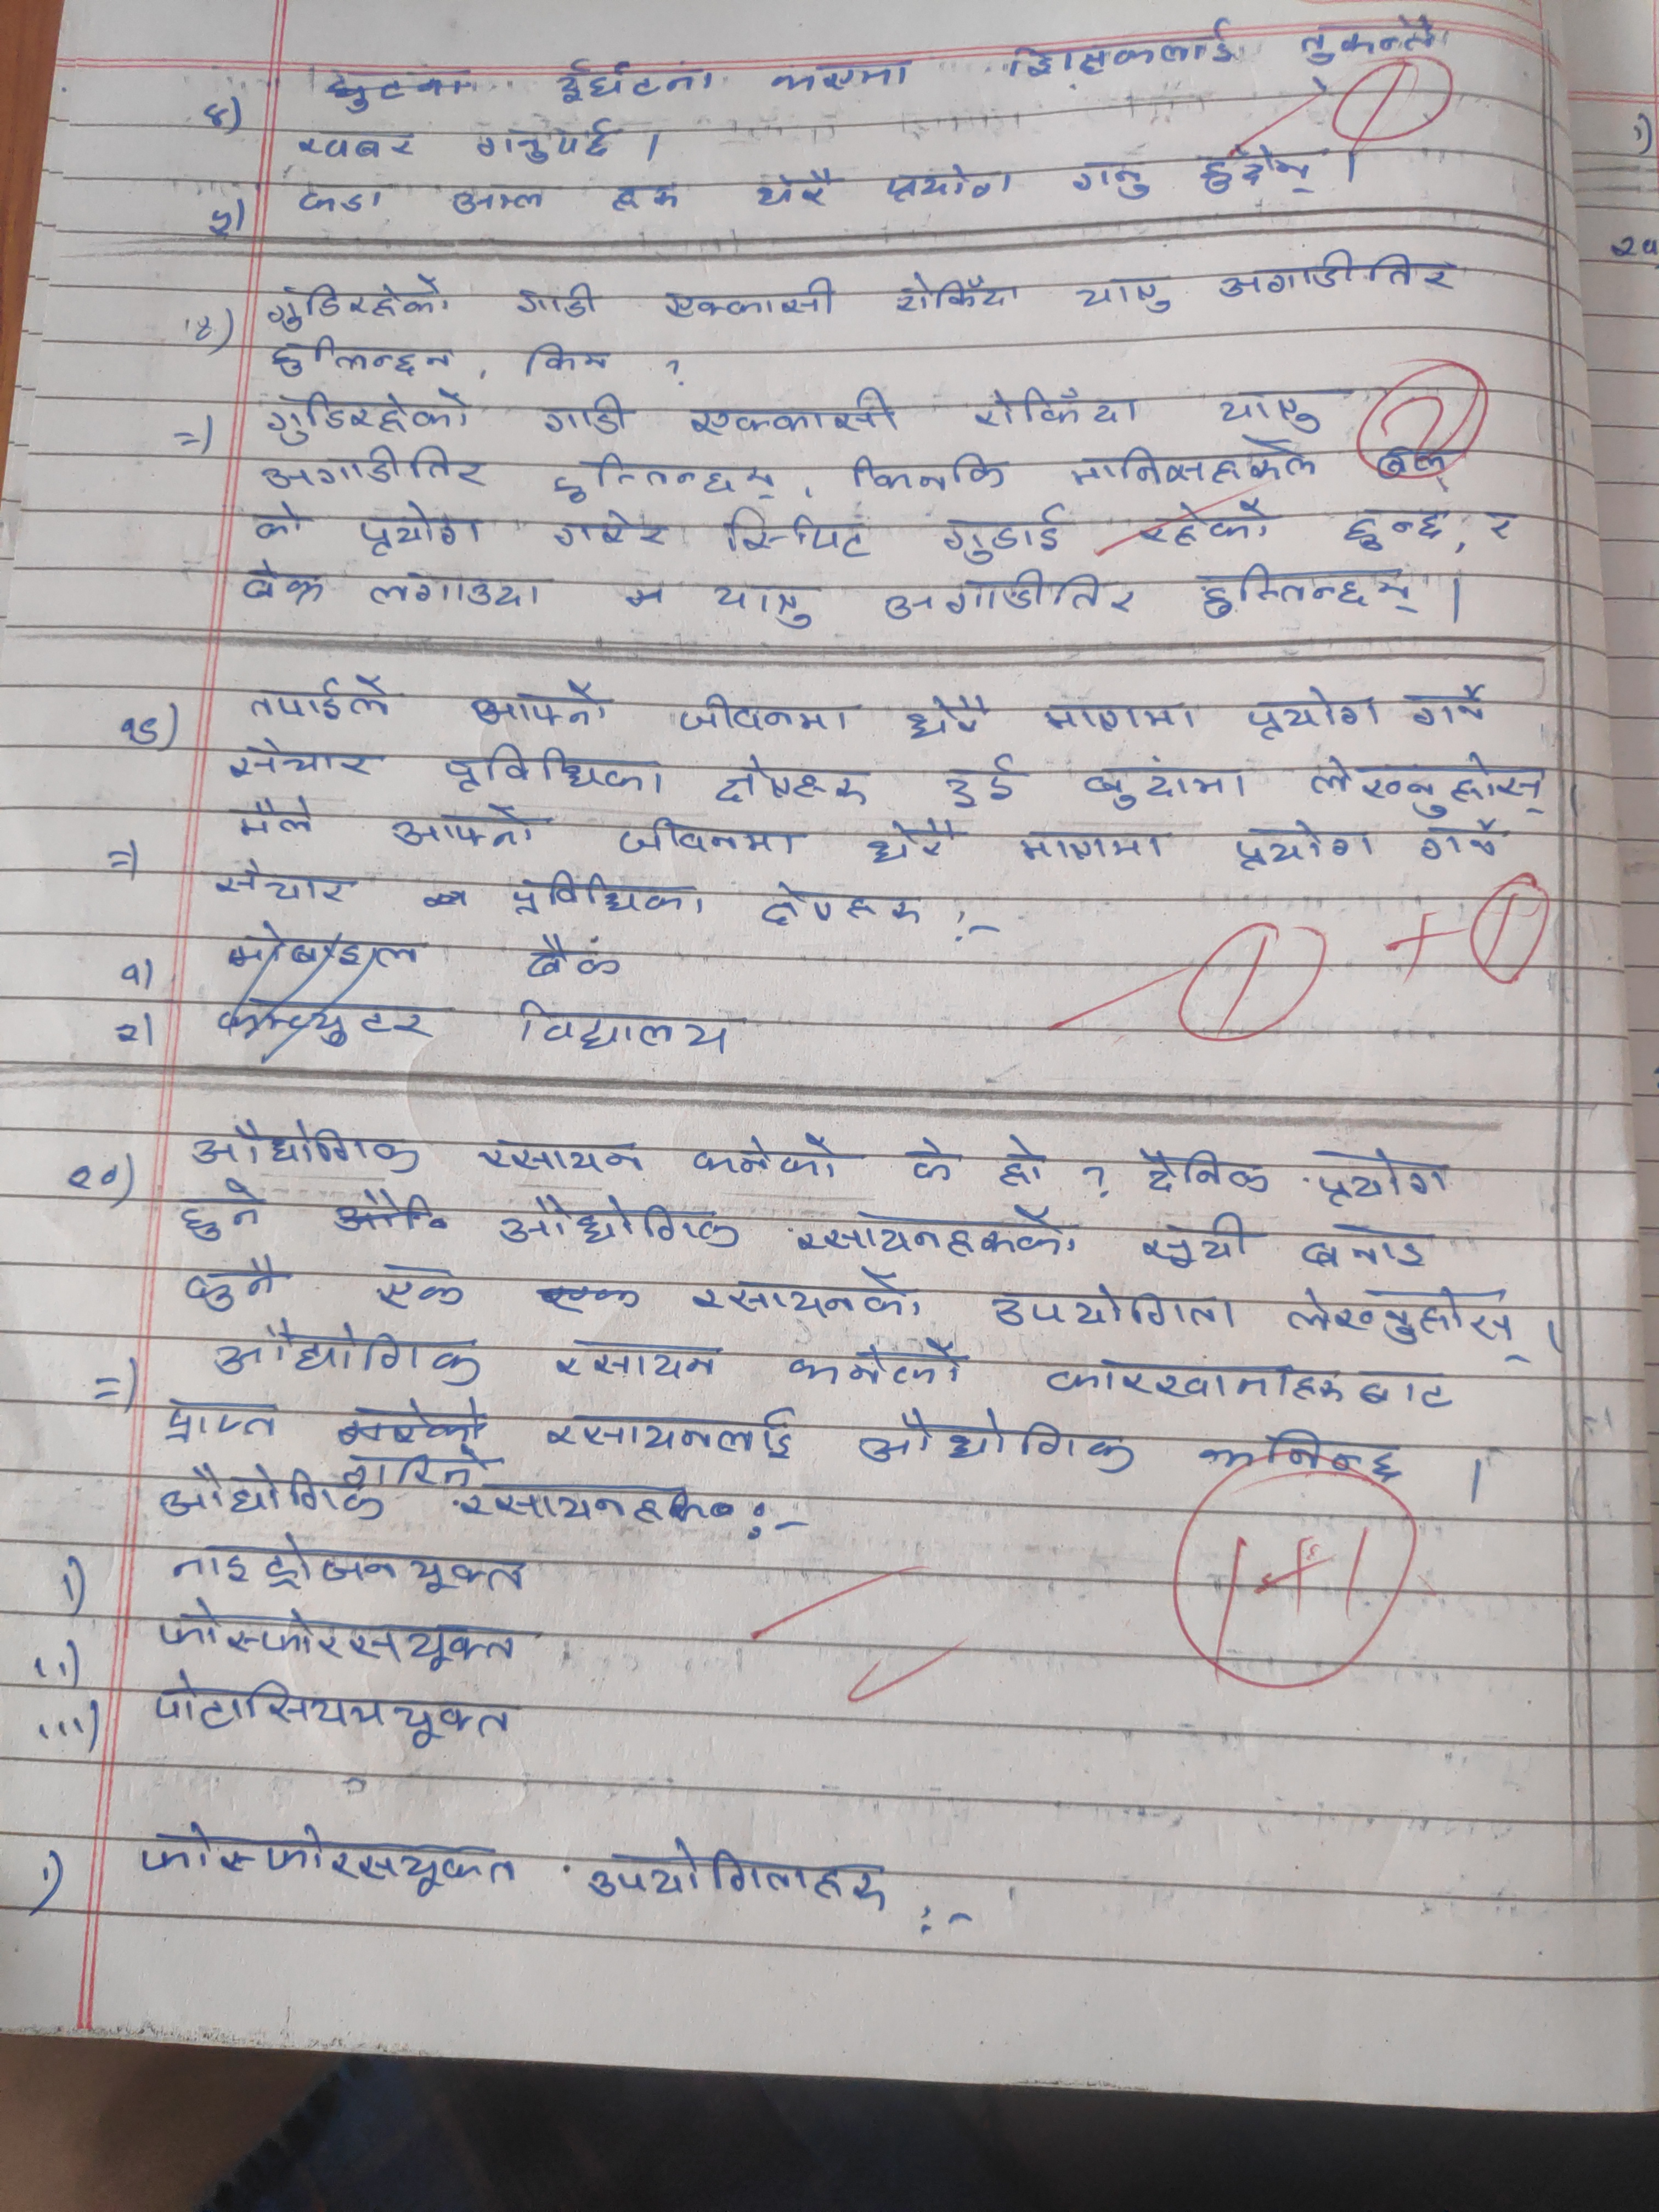text: (150, 1669, 512, 1749), (134, 1824, 516, 1895), (169, 1527, 528, 1599), (159, 1602, 525, 1672), (1039, 1350, 1453, 1409), (584, 1838, 897, 1912), (1279, 1282, 1537, 1364), (854, 1406, 1138, 1479), (1305, 749, 1556, 820), (795, 1198, 1075, 1259), (207, 1327, 483, 1388), (540, 1400, 793, 1463), (688, 1261, 924, 1327), (498, 1191, 742, 1252), (1065, 434, 1323, 491), (878, 571, 1143, 627), (159, 1460, 380, 1526), (504, 996, 737, 1059), (1006, 16, 1237, 78), (188, 1115, 422, 1176), (985, 1282, 1239, 1336), (446, 742, 664, 803), (1201, 1426, 1408, 1489), (1188, 561, 1417, 617), (261, 441, 497, 495), (544, 453, 786, 505), (1215, 247, 1455, 300), (261, 385, 479, 442), (451, 1482, 716, 1527), (507, 869, 706, 928), (268, 272, 451, 333), (690, 387, 904, 437), (786, 1339, 971, 1393), (617, 817, 800, 866), (1075, 759, 1251, 810), (474, 1130, 648, 1181), (934, 502, 1068, 566), (678, 690, 859, 737), (713, 754, 868, 808), (762, 885, 927, 935), (1310, 1150, 1452, 1209), (690, 1132, 845, 1184), (265, 334, 458, 376), (556, 1336, 721, 1385), (659, 277, 842, 320), (352, 502, 490, 559), (556, 57, 716, 106), (1248, 683, 1384, 740), (230, 733, 383, 784), (971, 385, 1141, 430), (469, 115, 624, 164), (727, 507, 871, 559), (1197, 141, 1323, 200), (247, 672, 399, 721), (469, 679, 615, 730), (385, 803, 542, 850), (366, 571, 549, 611), (1134, 1141, 1274, 1193), (1302, 12, 1443, 63), (1232, 826, 1377, 874), (211, 860, 356, 909), (1011, 820, 1169, 864), (1136, 495, 1272, 545), (162, 1393, 281, 1451), (850, 451, 1012, 493), (1302, 1219, 1424, 1273), (762, 49, 911, 92), (1141, 1212, 1255, 1270), (894, 265, 1026, 314), (709, 577, 819, 634), (181, 1256, 279, 1318), (885, 160, 1016, 206), (525, 930, 624, 989), (178, 1176, 268, 1240), (552, 507, 674, 552), (1035, 697, 1197, 730), (366, 1264, 465, 1318), (748, 160, 838, 218), (864, 815, 960, 869), (296, 124, 420, 165), (1344, 505, 1452, 552), (1215, 388, 1333, 430), (945, 751, 1030, 808), (349, 1451, 493, 1484), (450, 174, 551, 219), (542, 390, 633, 441), (1070, 273, 1176, 315), (518, 272, 605, 322), (904, 695, 995, 742), (1410, 685, 1490, 737), (1413, 819, 1513, 860), (291, 179, 397, 218), (242, 559, 329, 604), (1073, 153, 1154, 202), (230, 796, 314, 840), (523, 336, 612, 376), (995, 1134, 1053, 1190), (906, 1134, 958, 1190), (249, 491, 303, 543), (1375, 448, 1453, 482), (606, 179, 681, 214), (620, 580, 674, 617), (1485, 507, 1523, 547)
